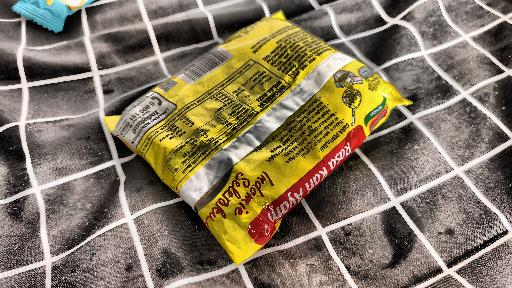indomie: (79, 11, 414, 272)
